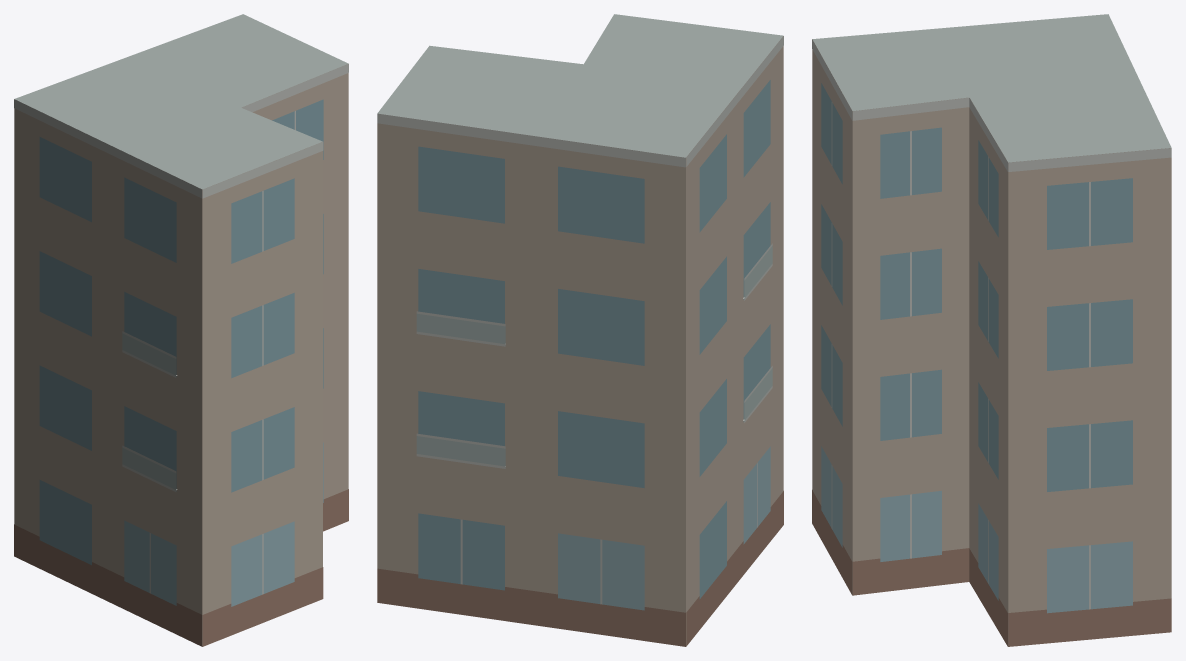
The model's file is survey-upis-32469524.glb.
3 renders of one model, left to right at view 1: azimuth 30°, elevation 25°; view 2: azimuth 150°, elevation 25°; view 3: azimuth 270°, elevation 25°, orthographic. The views are drawn at different scales.
Parts seen in each view (by area): view 1: survey-upis-32469524.tmp; view 2: survey-upis-32469524.tmp; view 3: survey-upis-32469524.tmp.
Part boxes in pixels (bbox=[...]): survey-upis-32469524.tmp: bbox=[14, 14, 348, 646]; survey-upis-32469524.tmp: bbox=[377, 14, 783, 646]; survey-upis-32469524.tmp: bbox=[812, 14, 1171, 646].
Size of the model in its own units: 8.03 by 12.2 by 8.22.
